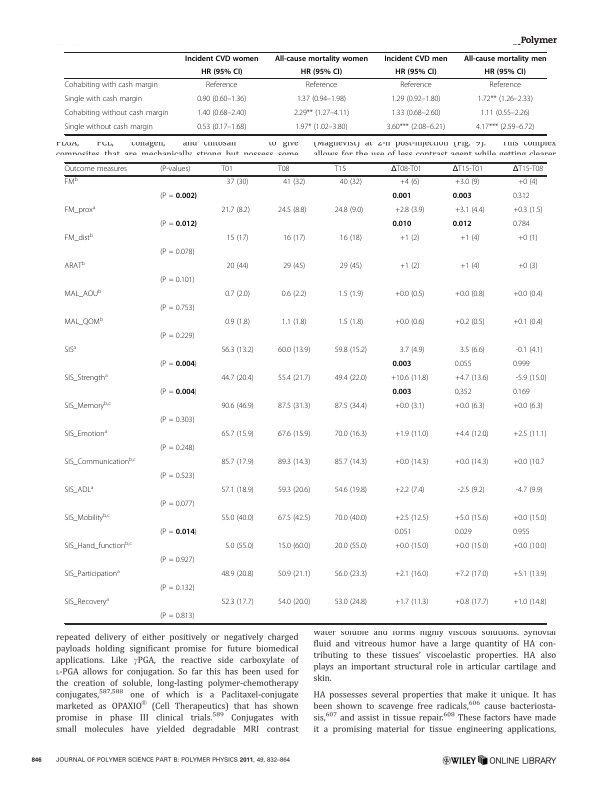borderless: (63, 160, 546, 623), (63, 50, 546, 134)
cell: (63, 108, 169, 118), (63, 80, 159, 90), (64, 122, 154, 132), (274, 54, 369, 63), (64, 456, 137, 467), (63, 94, 143, 104), (64, 540, 133, 551), (463, 54, 547, 63), (184, 54, 259, 63), (64, 568, 121, 579), (386, 122, 446, 132), (475, 122, 535, 132), (383, 54, 448, 63), (64, 165, 128, 174), (477, 94, 534, 104), (293, 108, 350, 118), (294, 122, 348, 132), (64, 400, 112, 411), (64, 512, 111, 523), (196, 94, 247, 104), (296, 94, 347, 104), (390, 94, 441, 104), (196, 108, 247, 118), (390, 108, 441, 118), (480, 108, 531, 118), (196, 122, 247, 132), (64, 596, 110, 607), (64, 372, 109, 383), (64, 428, 108, 439), (64, 316, 104, 327), (200, 67, 243, 77), (300, 67, 343, 77), (394, 67, 437, 77), (484, 67, 527, 77), (64, 288, 102, 299), (64, 204, 96, 215), (159, 192, 198, 201), (159, 220, 198, 229), (159, 360, 198, 369), (390, 374, 429, 383), (159, 388, 198, 397), (159, 528, 198, 537), (399, 80, 433, 90), (488, 80, 522, 90), (64, 232, 94, 243), (64, 484, 94, 495), (205, 80, 238, 90), (305, 80, 338, 90), (159, 248, 195, 257), (159, 276, 195, 285), (159, 304, 195, 313), (159, 332, 195, 341), (159, 416, 195, 425), (159, 444, 195, 453), (159, 472, 195, 481), (159, 500, 195, 509), (159, 556, 195, 565), (159, 584, 195, 593), (159, 612, 195, 621), (220, 346, 255, 355), (220, 374, 255, 383), (454, 374, 489, 383), (220, 402, 255, 411), (220, 430, 255, 439), (394, 430, 429, 439), (454, 430, 489, 439), (512, 430, 547, 439), (220, 458, 255, 467), (394, 458, 429, 467), (454, 458, 489, 467), (220, 486, 255, 495), (220, 514, 255, 523), (394, 514, 429, 523), (454, 514, 489, 523), (512, 514, 547, 523), (394, 542, 429, 551), (454, 542, 489, 551), (512, 542, 547, 551), (220, 570, 255, 579), (394, 570, 429, 579), (454, 570, 489, 579), (512, 570, 547, 579), (220, 598, 255, 607), (394, 598, 429, 607), (454, 598, 489, 607), (512, 598, 547, 607), (277, 346, 311, 355), (334, 346, 368, 355), (277, 374, 311, 383), (334, 374, 368, 383), (277, 402, 311, 411), (334, 402, 368, 411), (277, 430, 311, 439), (334, 430, 368, 439), (277, 458, 311, 467), (334, 458, 368, 467), (277, 486, 311, 495), (334, 486, 368, 495), (277, 514, 311, 523), (334, 514, 368, 523), (277, 542, 311, 551), (334, 542, 368, 551), (277, 570, 311, 579), (334, 570, 368, 579), (277, 598, 311, 607), (334, 598, 368, 607), (390, 165, 423, 174), (512, 458, 545, 467), (159, 165, 191, 174), (452, 165, 484, 174), (512, 165, 544, 174), (454, 206, 486, 215), (512, 206, 544, 215), (454, 290, 486, 299), (512, 290, 544, 299), (454, 318, 486, 327), (512, 318, 544, 327), (515, 374, 547, 383), (454, 402, 486, 411), (512, 402, 544, 411), (220, 206, 251, 215), (394, 206, 425, 215), (394, 290, 425, 299), (394, 318, 425, 327), (394, 402, 425, 411), (394, 486, 425, 495), (224, 542, 255, 551), (277, 206, 307, 215), (334, 206, 364, 215), (515, 346, 544, 355), (457, 486, 486, 495), (515, 486, 544, 495), (224, 290, 251, 299), (337, 290, 364, 299), (224, 318, 251, 327), (337, 318, 364, 327), (459, 346, 486, 355), (64, 260, 86, 271), (454, 178, 480, 187), (281, 290, 307, 299), (281, 318, 307, 327), (399, 346, 425, 355), (282, 178, 306, 187), (339, 178, 363, 187), (282, 234, 306, 243), (339, 234, 363, 243), (282, 262, 306, 271), (339, 262, 363, 271), (226, 178, 249, 187), (226, 234, 249, 243), (226, 262, 249, 271), (399, 178, 420, 187), (517, 178, 538, 187), (399, 234, 420, 243), (459, 234, 480, 243), (517, 234, 538, 243), (399, 262, 420, 271), (459, 262, 480, 271), (517, 262, 538, 271), (391, 192, 412, 200), (391, 220, 412, 228), (391, 360, 412, 368), (391, 388, 412, 396), (64, 176, 79, 187), (512, 192, 530, 201), (512, 220, 530, 229), (454, 360, 472, 369), (512, 360, 530, 369), (454, 388, 472, 397), (512, 388, 530, 397), (394, 528, 412, 537), (454, 528, 472, 537), (512, 528, 530, 537), (452, 192, 472, 200), (452, 220, 472, 228), (64, 344, 77, 355), (220, 165, 234, 174), (277, 165, 290, 174), (334, 165, 347, 174)
